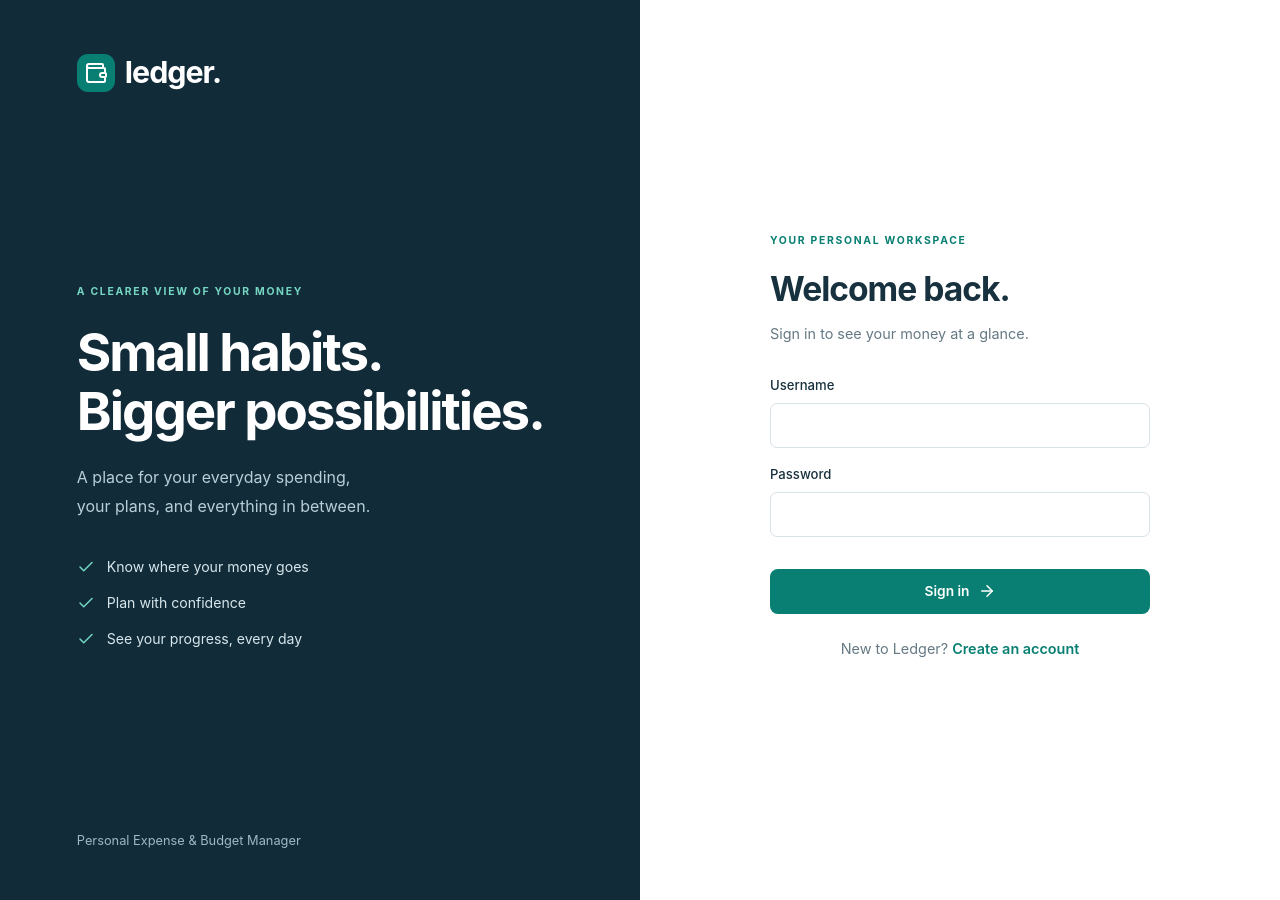
Test: authentication page over the HTTP boundary › shows API field errors after invalid credentials
expect the heading "Welcome back." is shown: met, box [770,268,1010,309]
In the field labelled "Username": (960, 426) [770,403,1150,448], type "not-a-user"
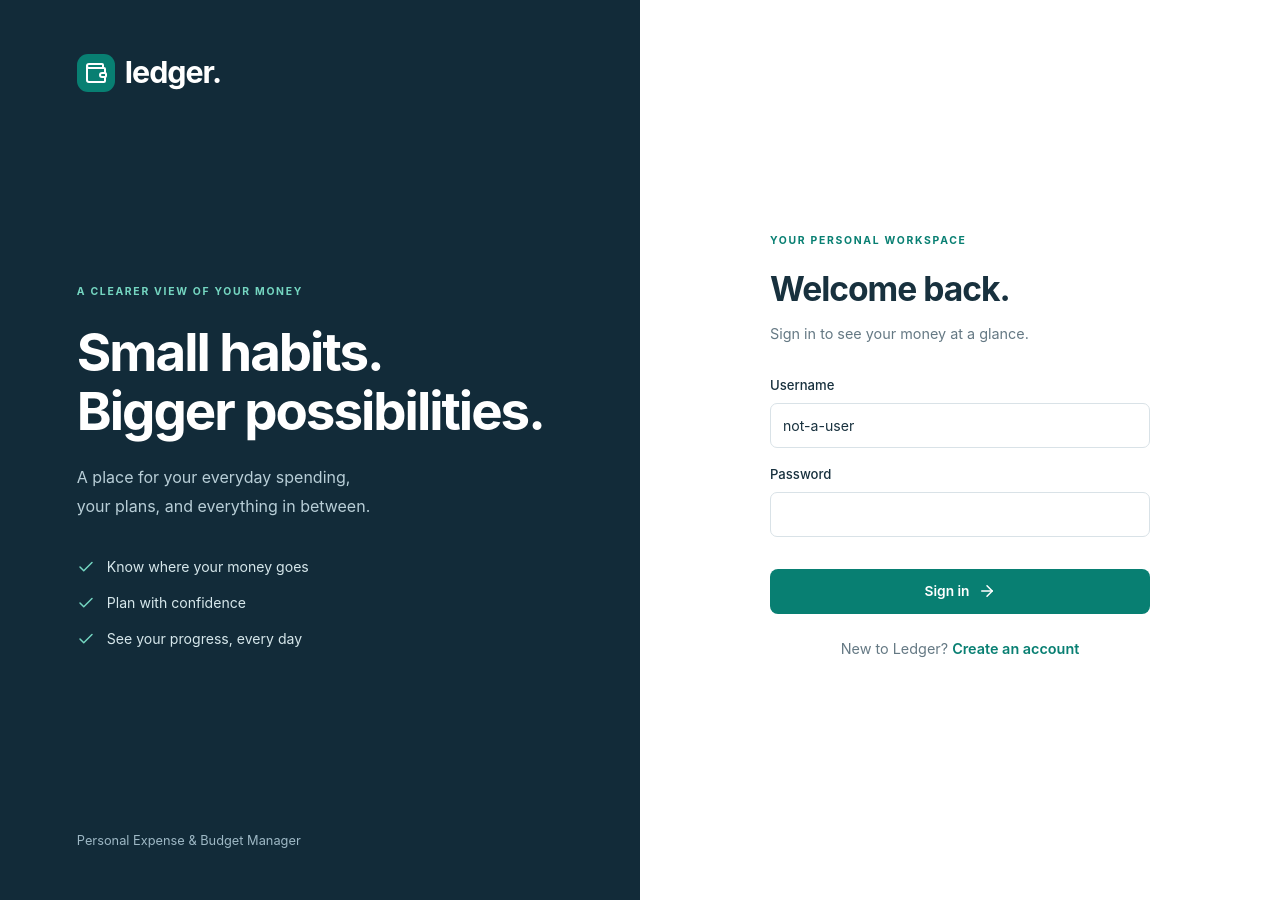
In the password field labelled "Password": (960, 514) [770,492,1150,537], type "wrong-password"
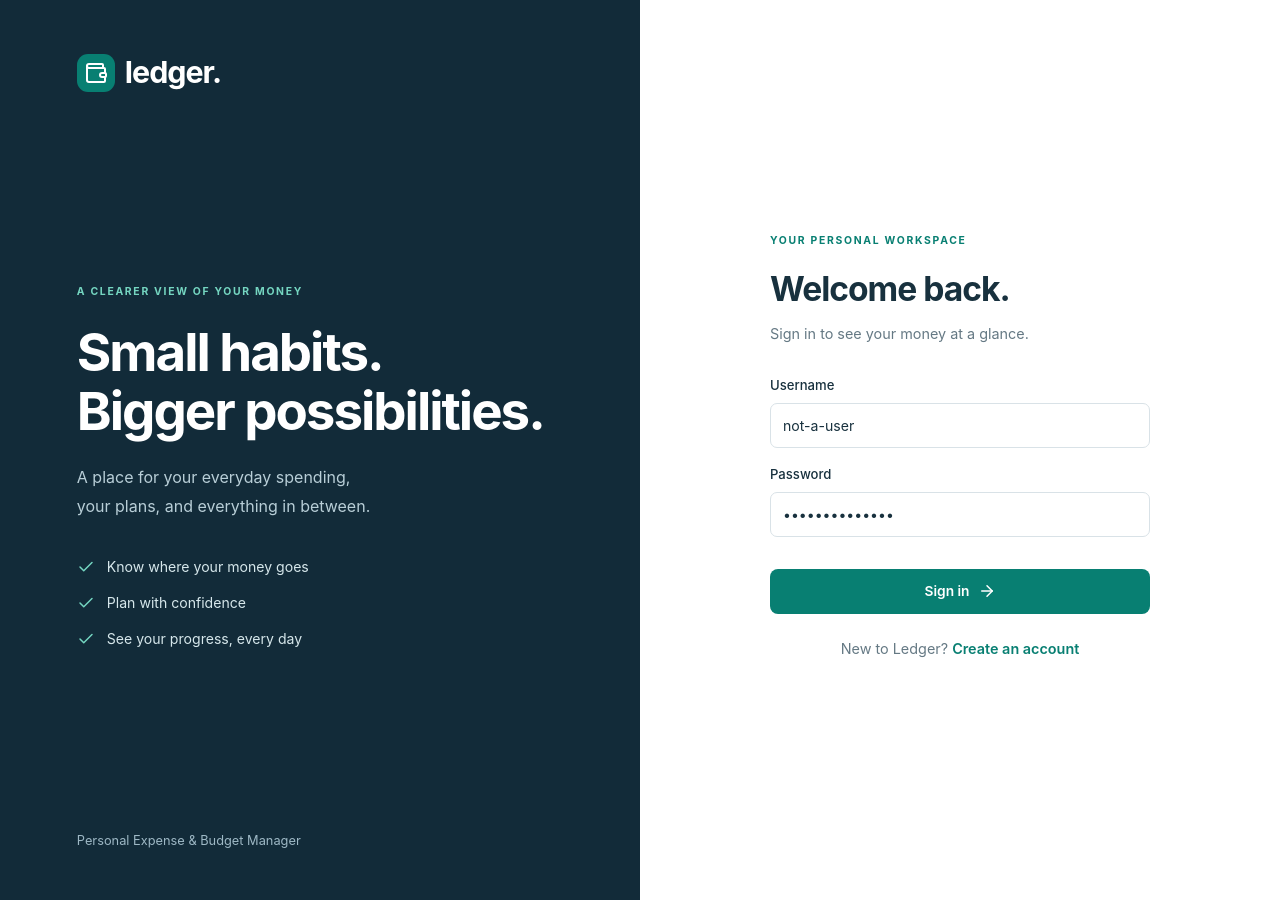
Click the button with test id "login-button": (960, 591) [770,569,1150,614]
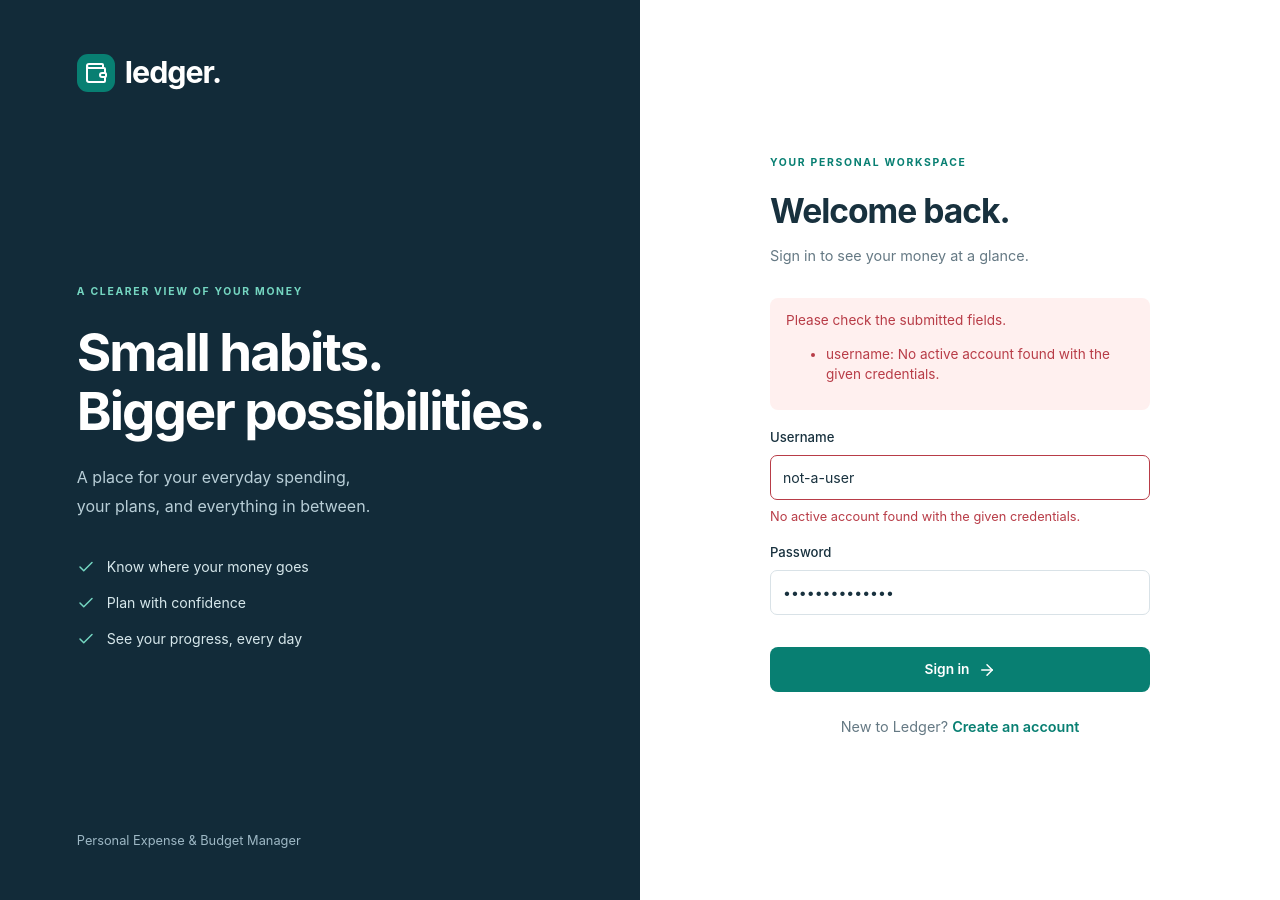
expect the message shows "Please check the submitted fields.": met, box [786,312,1006,328]
